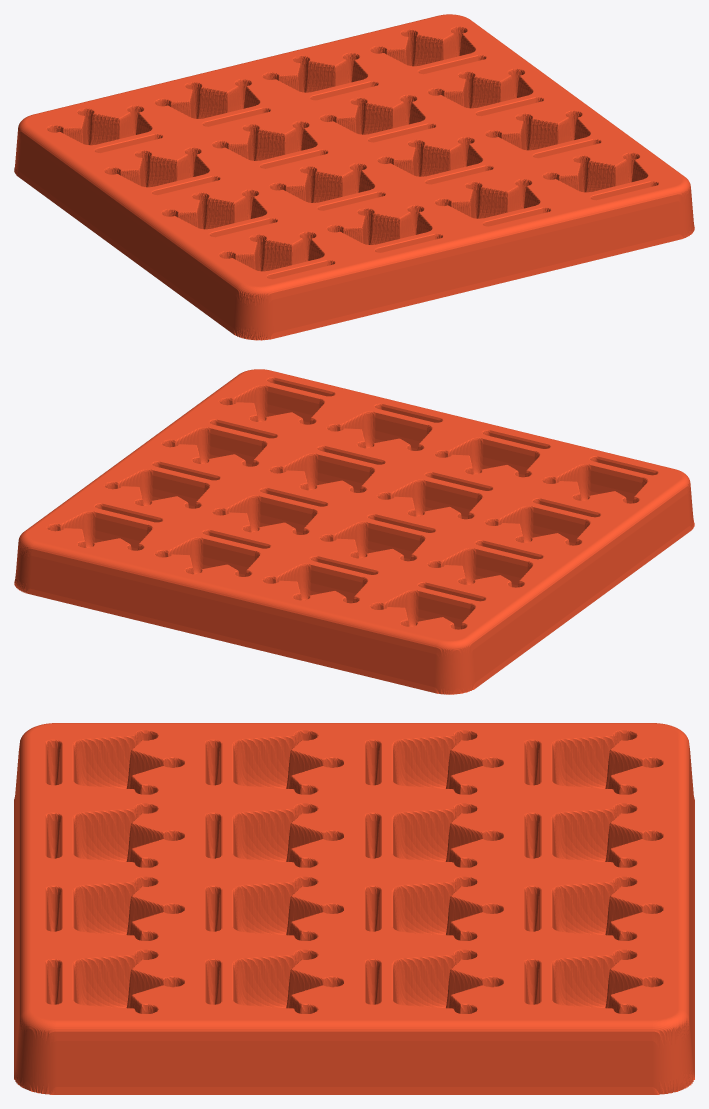
File: mold.glb
3 renders of one model, top to bottom at view 1: azimuth 30°, elevation 25°; view 2: azimuth 150°, elevation 25°; view 3: azimuth 270°, elevation 25°, orthographic. The views are drawn at different scales.
Visible parts, largest first — view 1: geometry_0; view 2: geometry_0; view 3: geometry_0.
Part boxes in pixels (bbox=[...]): geometry_0: bbox=[14, 14, 694, 340]; geometry_0: bbox=[14, 369, 694, 694]; geometry_0: bbox=[14, 723, 694, 1094].
Size of the model in its own units: 0.1569 by 0.0159 by 0.1454.
